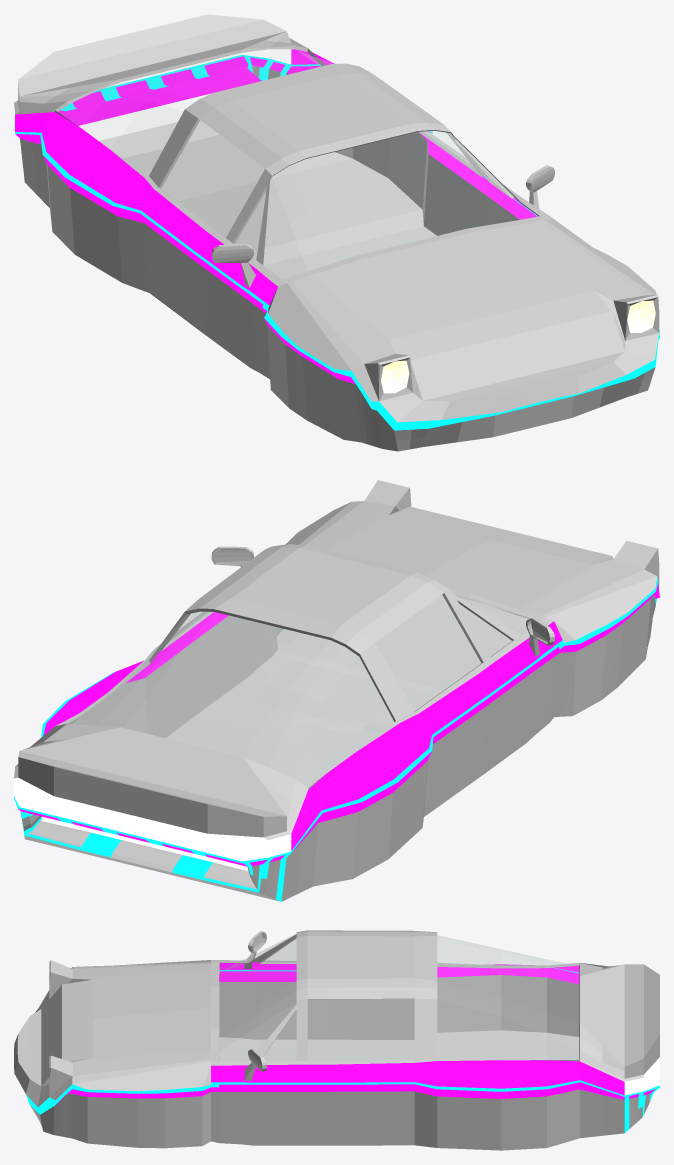
File: porscheAttempt.fbx
3 renders of one model, top to bottom at view 1: azimuth 30°, elevation 25°; view 2: azimuth 150°, elevation 25°; view 3: azimuth 270°, elevation 25°, orthographic. The views are drawn at different scales.
Parts seen in each view (by area): view 1: Cube; view 2: Cube; view 3: Cube.
Part boxes in pixels (left/top/right/bottom): Cube: left=14, top=14, right=659, bottom=451; Cube: left=14, top=480, right=659, bottom=901; Cube: left=14, top=930, right=659, bottom=1150.
Bounding box in the file's own units: 354 × 170 × 735.
